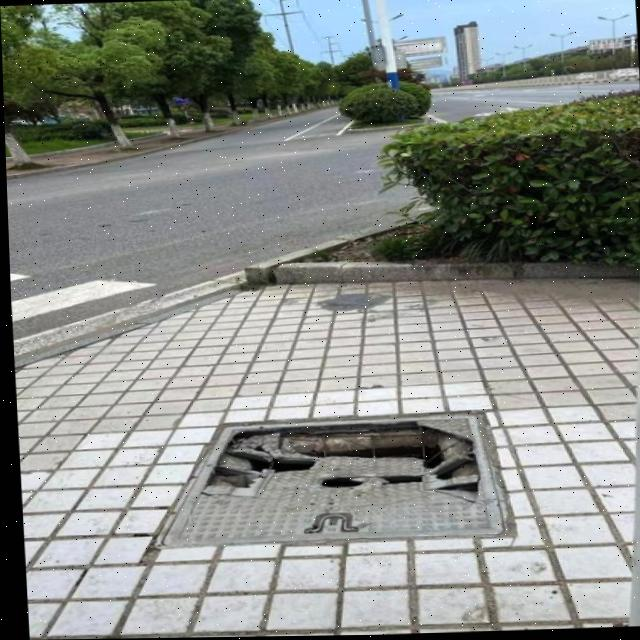manhole: (143, 406, 520, 555)
